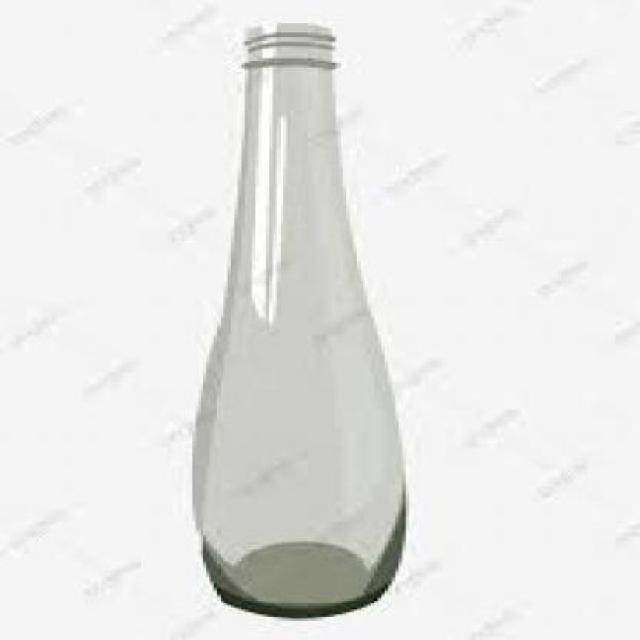kaca: (195, 18, 398, 617)
